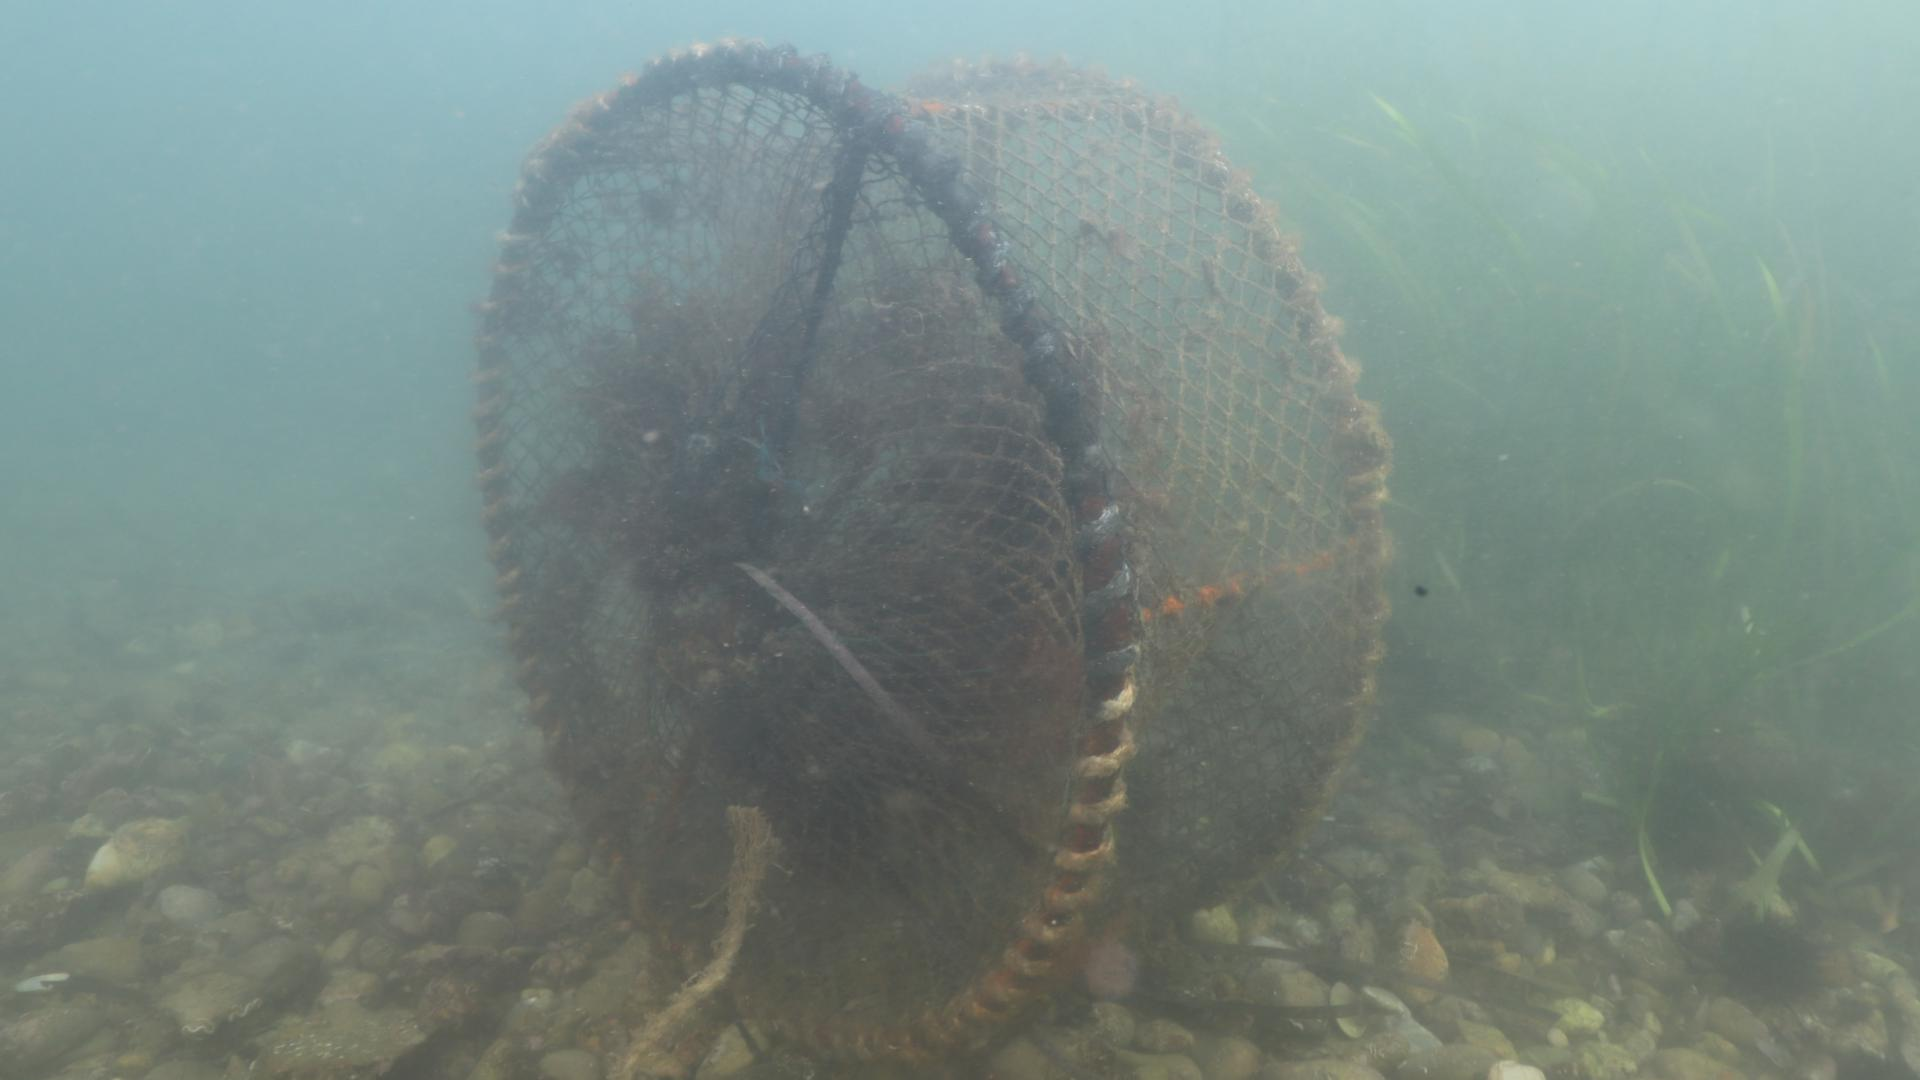circular fish trap: (473, 38, 1393, 1064)
